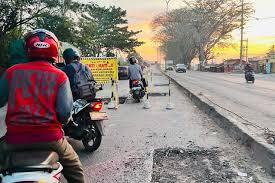Pothole: (122, 140, 267, 183)
